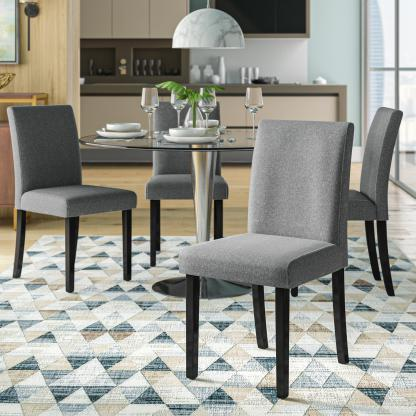chair: (177, 112, 355, 393), (2, 94, 133, 290), (149, 87, 230, 264), (355, 84, 405, 299)
door: (0, 0, 80, 214)
light: (171, 0, 250, 62)
table: (77, 103, 356, 303)
